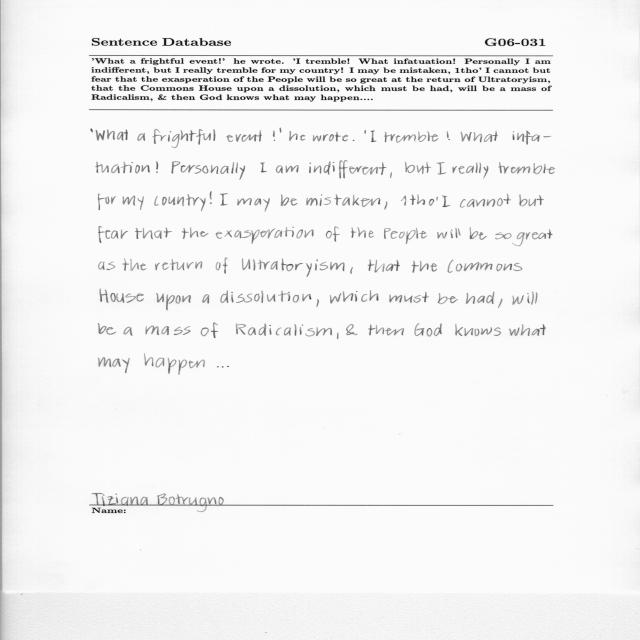word: (242, 258, 345, 277), (216, 227, 314, 244), (172, 161, 246, 180), (309, 161, 387, 179), (236, 323, 332, 337), (153, 129, 216, 148), (220, 290, 312, 303), (448, 260, 523, 273), (306, 194, 380, 207), (144, 354, 187, 375), (154, 194, 206, 211), (460, 194, 511, 208), (384, 228, 427, 244), (498, 162, 555, 174), (512, 230, 552, 247), (330, 290, 378, 304), (384, 131, 439, 143), (156, 293, 191, 311), (100, 289, 144, 303), (96, 162, 150, 173), (453, 163, 489, 179), (455, 324, 501, 336), (513, 131, 552, 145), (155, 259, 202, 270), (98, 357, 130, 373), (99, 226, 129, 243), (237, 198, 270, 212), (145, 326, 191, 336), (401, 194, 438, 206), (509, 324, 546, 336), (389, 292, 429, 303), (226, 130, 262, 142), (368, 260, 400, 273), (461, 131, 498, 142), (135, 228, 172, 239), (368, 325, 404, 336), (414, 323, 442, 337), (96, 129, 128, 141), (512, 291, 538, 305), (313, 132, 348, 142), (412, 260, 438, 273), (466, 292, 494, 304), (122, 258, 147, 271), (405, 162, 431, 174), (182, 227, 208, 239), (122, 196, 144, 210), (519, 195, 544, 207), (99, 194, 117, 210), (189, 360, 224, 368), (437, 228, 461, 239), (201, 323, 218, 338), (351, 227, 374, 238), (326, 226, 340, 242), (470, 227, 487, 240), (438, 293, 458, 304), (99, 323, 117, 335), (281, 194, 298, 206), (216, 258, 228, 274), (276, 165, 299, 173), (289, 131, 306, 141), (346, 324, 358, 335), (437, 162, 447, 175), (99, 262, 115, 270), (495, 232, 512, 239), (220, 193, 228, 206), (123, 327, 133, 336), (442, 196, 450, 207), (260, 163, 267, 173), (137, 133, 145, 141), (203, 295, 210, 304), (371, 130, 376, 142), (498, 299, 502, 308), (447, 131, 450, 140), (156, 161, 158, 173), (210, 192, 212, 204), (385, 202, 388, 210), (273, 130, 275, 141), (350, 267, 353, 274), (317, 299, 319, 307), (390, 172, 392, 178), (280, 128, 282, 133), (91, 129, 93, 133), (364, 130, 366, 134), (337, 333, 338, 339), (353, 140, 355, 141)
